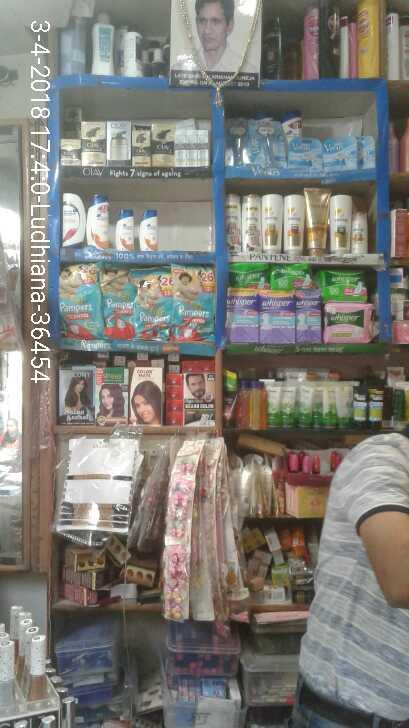venus: (249, 116, 288, 171), (288, 136, 324, 171), (324, 136, 358, 169), (229, 116, 248, 168), (358, 136, 374, 169)
